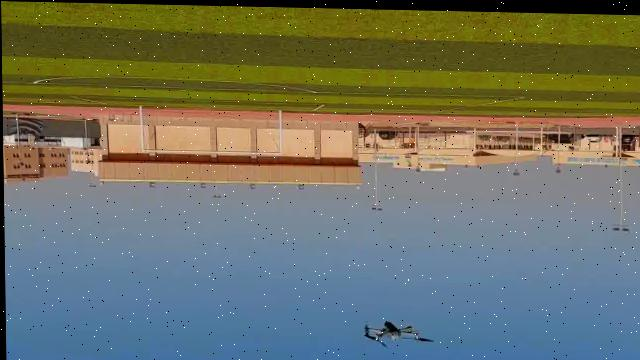drone: (354, 312, 438, 350)
